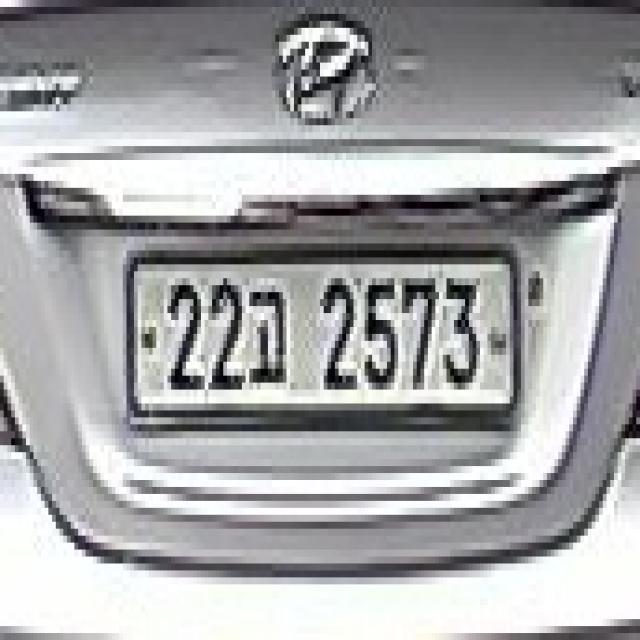2: (318, 270, 360, 398), (162, 274, 206, 394), (208, 269, 246, 396)
3: (445, 269, 482, 396)
5: (362, 269, 400, 399)
7: (403, 270, 439, 399)
go: (250, 280, 293, 394)
license_plate: (134, 260, 514, 409)
